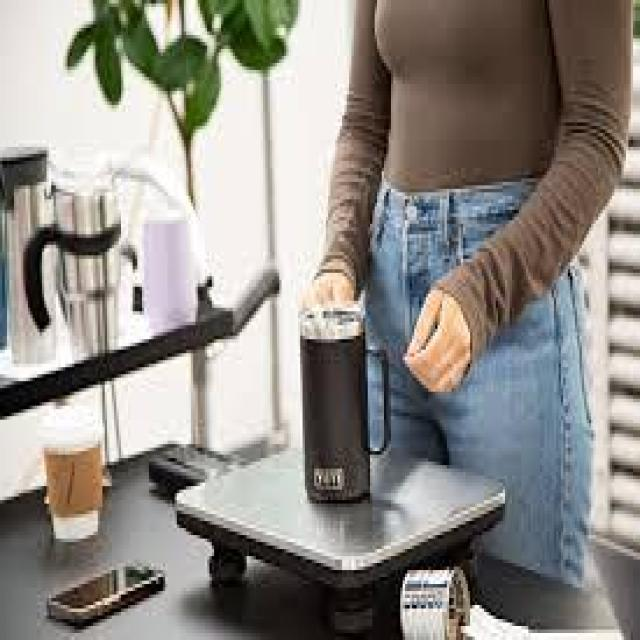bottle: (298, 308, 393, 510)
